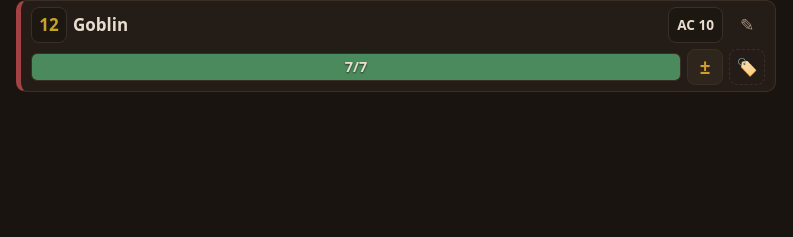
it: CreatureRow editing › opens the edit panel seeded with the creature
The width and height of the screenshot is (793, 237).
What coordinates should you click on to do the following:
click the button named "edit goblin"
I would click on:
 (747, 25)
Its box is [729,7,765,43].
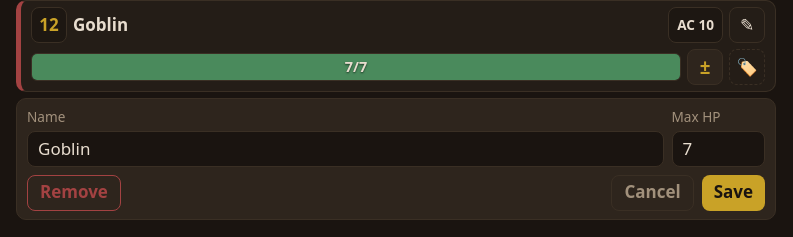
Now the number field labelled "Max HP" holds "7", box [672,131,765,167]
